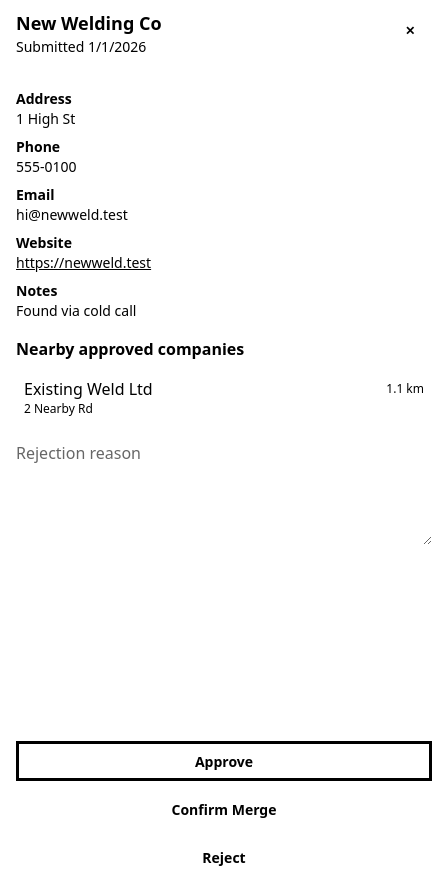
ModerationDetailPanel › two-step merge › clicking a candidate arms it, Confirm Merge enables
The width and height of the screenshot is (448, 883).
Check: the button "Confirm Merge" is disabled, box [16,789,432,829]
What coordinates should you click on to do the following:
click the button with test id "merge-candidate-sc-1"
I would click on:
 (88, 389)
Its box is [16,369,432,425].
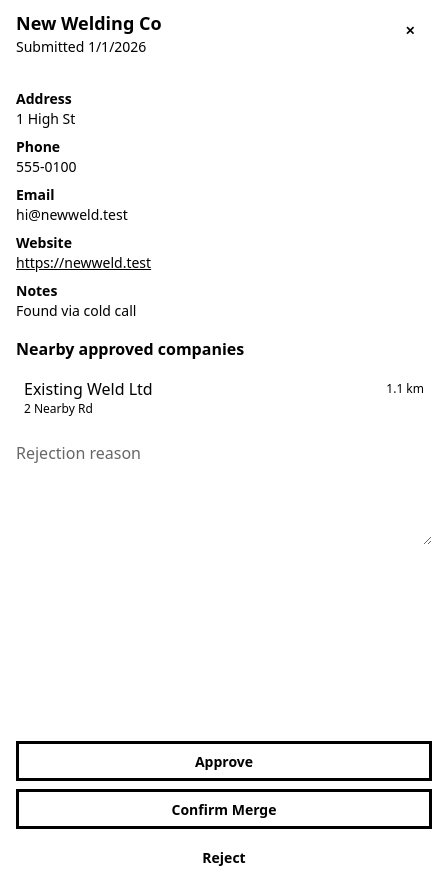
Check: the button "Confirm Merge" is enabled, box [16,789,432,829]
